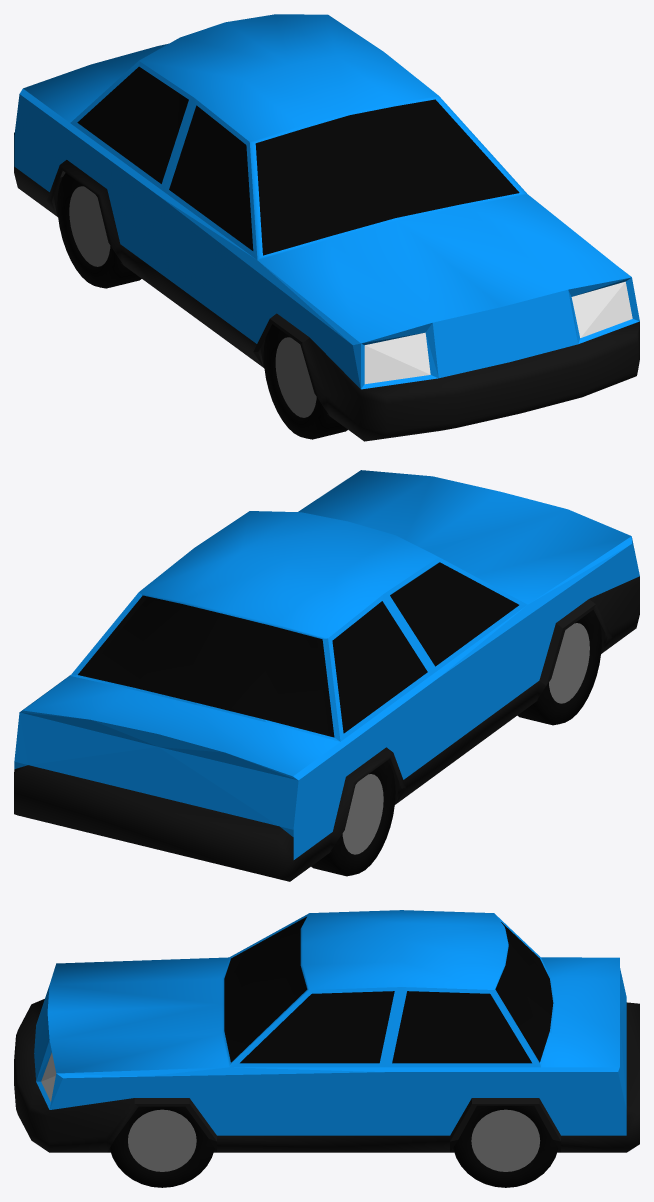
The model's file is car3.obj.
3 renders of one model, top to bottom at view 1: azimuth 30°, elevation 25°; view 2: azimuth 150°, elevation 25°; view 3: azimuth 270°, elevation 25°, orthographic. The views are drawn at different scales.
Visible parts, largest first — view 1: Car_Cube; view 2: Car_Cube; view 3: Car_Cube.
Part boxes in pixels (left/top/right/bottom): Car_Cube: left=14, top=14, right=639, bottom=441; Car_Cube: left=14, top=470, right=639, bottom=881; Car_Cube: left=14, top=910, right=639, bottom=1187.
Bounding box in the file's own units: 2.1 × 1.59 × 4.66.
